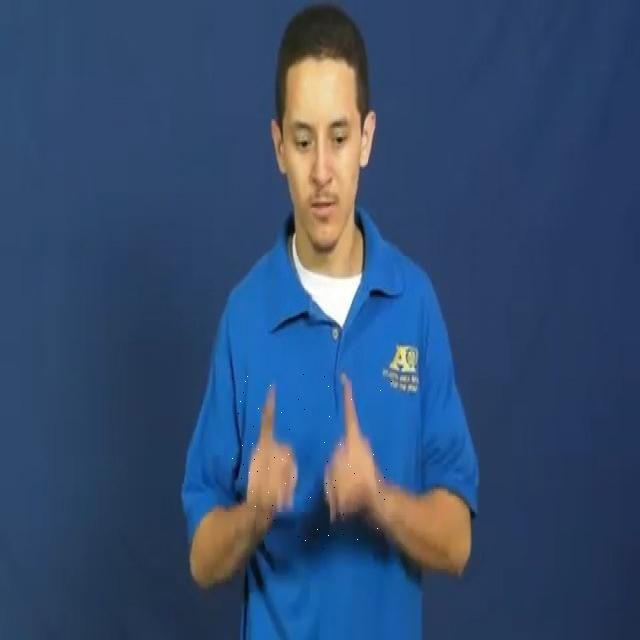order: (232, 370, 392, 555)
